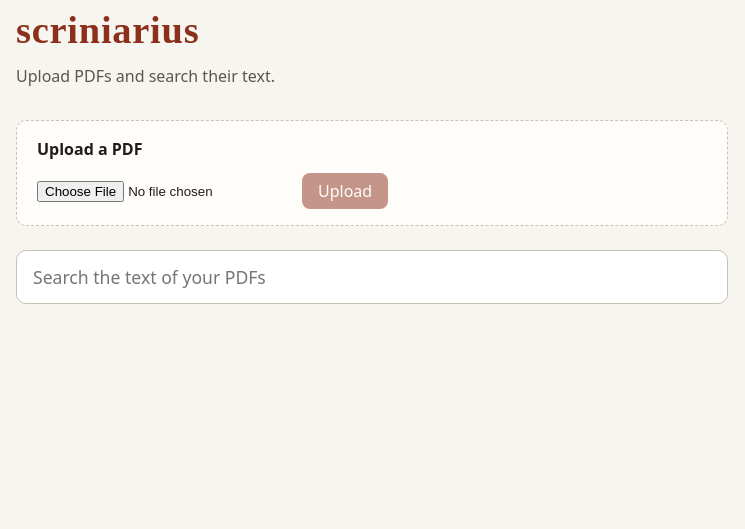
Test case: shows each hit with its title, its type and the matched words marked
Type "aardvark" into the search field labelled "Search" at (372, 277), box [16,250,728,304]
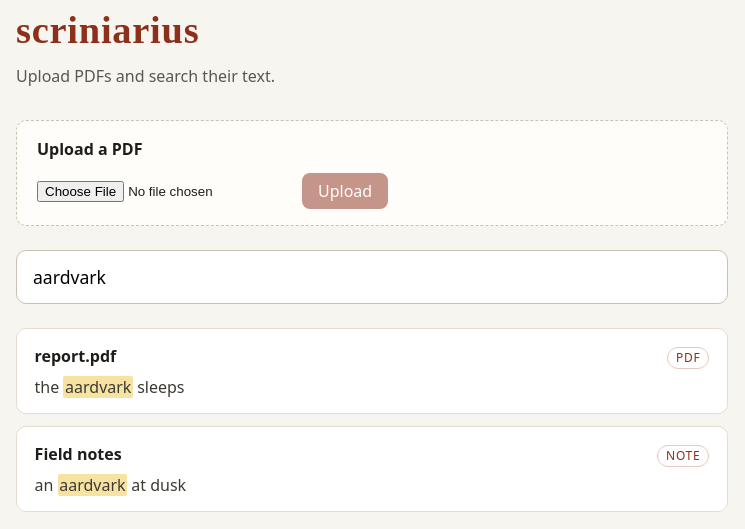
Result: the text "report.pdf" is shown at [35,344,116,368]
Result: the text with class "type" reads "PDF" at [676,349,700,366]
Result: the text with class "title" reads "Field notes" at [35,443,122,465]
